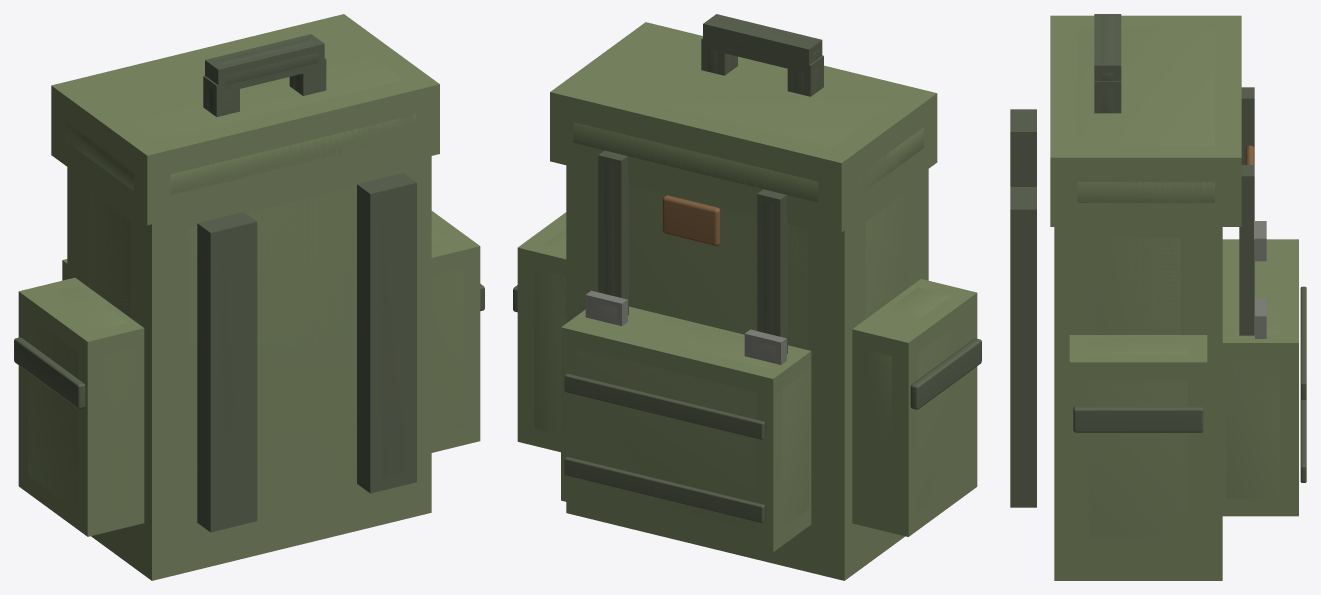
Rendered from FieldBackpack.glb.
3 views of the same model, side by side, from view 1: azimuth 30°, elevation 25°; view 2: azimuth 150°, elevation 25°; view 3: azimuth 270°, elevation 25° (orthographic).
Visible parts, largest first — view 1: LOD1_GearCanvas, LOD0_GearCanvas, LOD1_GearStrap, LOD0_GearStrap; view 2: LOD1_GearCanvas, LOD0_GearCanvas, LOD0_GearStrap, LOD1_GearStrap, LOD0_GearLeather, LOD1_GearSteel, LOD0_GearSteel; view 3: LOD1_GearCanvas, LOD0_GearCanvas, LOD1_GearStrap, LOD0_GearStrap, LOD1_GearSteel.
Part boxes in pixels (x1,y1,x2,y2): LOD1_GearCanvas: [18, 14, 480, 580]; LOD0_GearCanvas: [28, 30, 463, 514]; LOD1_GearStrap: [197, 34, 416, 532]; LOD0_GearStrap: [14, 38, 484, 514]; LOD1_GearCanvas: [517, 22, 977, 580]; LOD0_GearCanvas: [534, 38, 953, 533]; LOD0_GearStrap: [513, 18, 981, 523]; LOD1_GearStrap: [598, 14, 823, 353]; LOD0_GearLeather: [662, 195, 720, 246]; LOD1_GearSteel: [585, 290, 786, 364]; LOD0_GearSteel: [591, 302, 776, 361]; LOD1_GearCanvas: [1050, 15, 1298, 580]; LOD0_GearCanvas: [1077, 27, 1279, 538]; LOD1_GearStrap: [1010, 14, 1254, 507]; LOD0_GearStrap: [1073, 17, 1306, 482]; LOD1_GearSteel: [1255, 221, 1266, 338].
Size of the model in its own units: 0.612 by 0.6825 by 0.3875.
